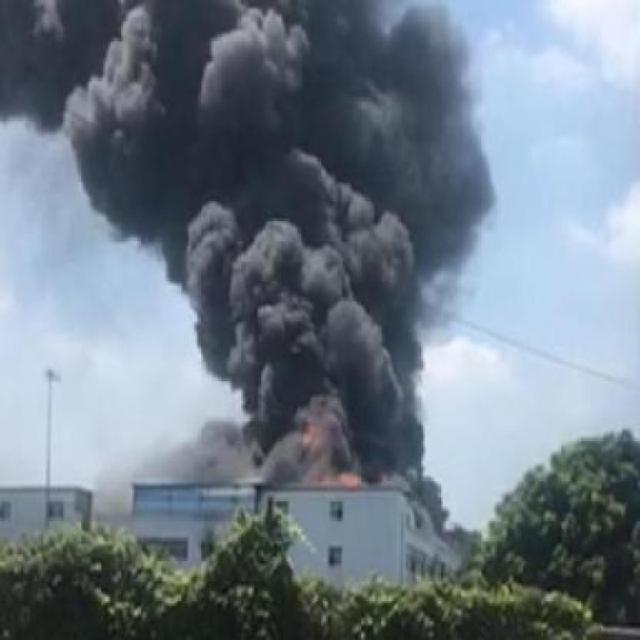Smoke: (29, 0, 487, 512)
